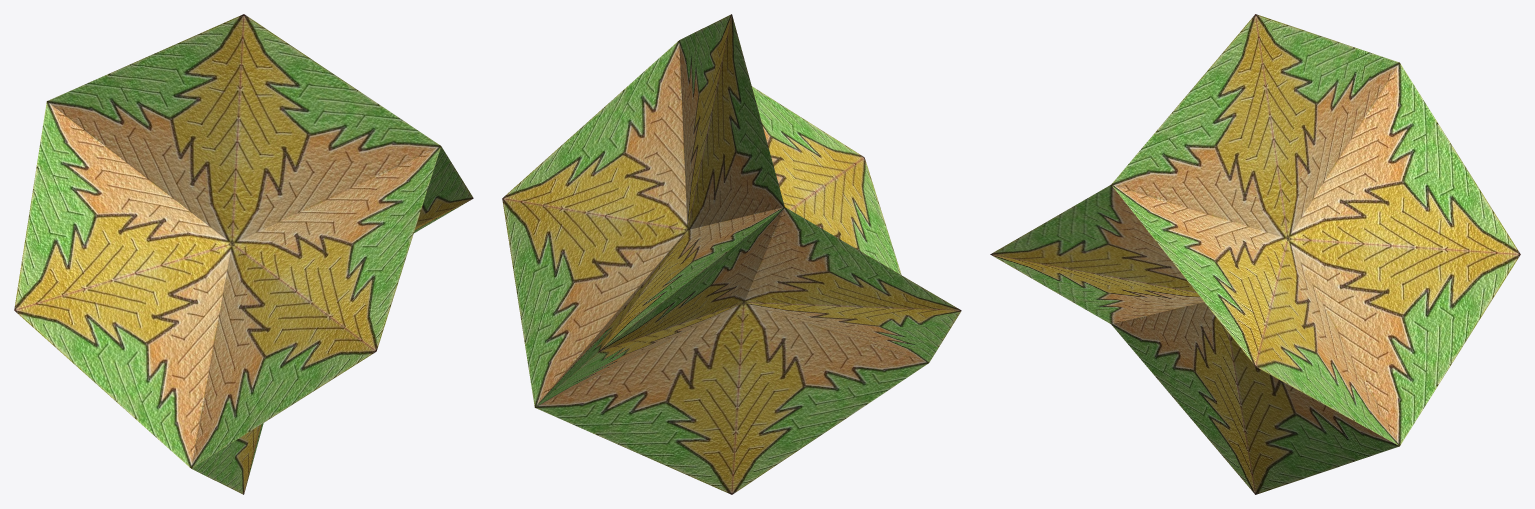
The model's file is Mobius24.obj.
3 views of the same model, side by side, from view 1: azimuth 30°, elevation 25°; view 2: azimuth 150°, elevation 25°; view 3: azimuth 270°, elevation 25° (orthographic).
Bounding box in the file's own units: 2.24 × 2.24 × 2.24.
Materials: 1 (1 with a texture image).
